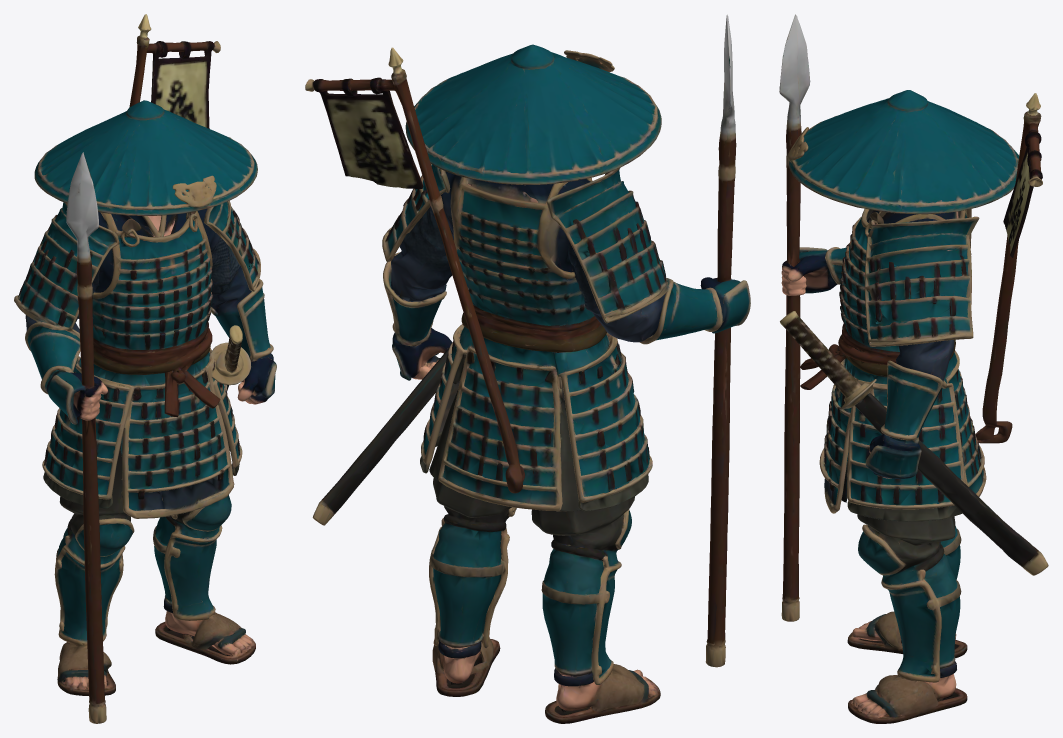
Rendered from detail_9.glb.
The picture shows the model from 3 angles, left to right: view 1: azimuth 30°, elevation 25°; view 2: azimuth 150°, elevation 25°; view 3: azimuth 270°, elevation 25°; orthographic projection. The views are drawn at different scales.
Bounding box in the file's own units: 0.4778 × 0.9932 × 0.3942.
1 material, 1 textured.
